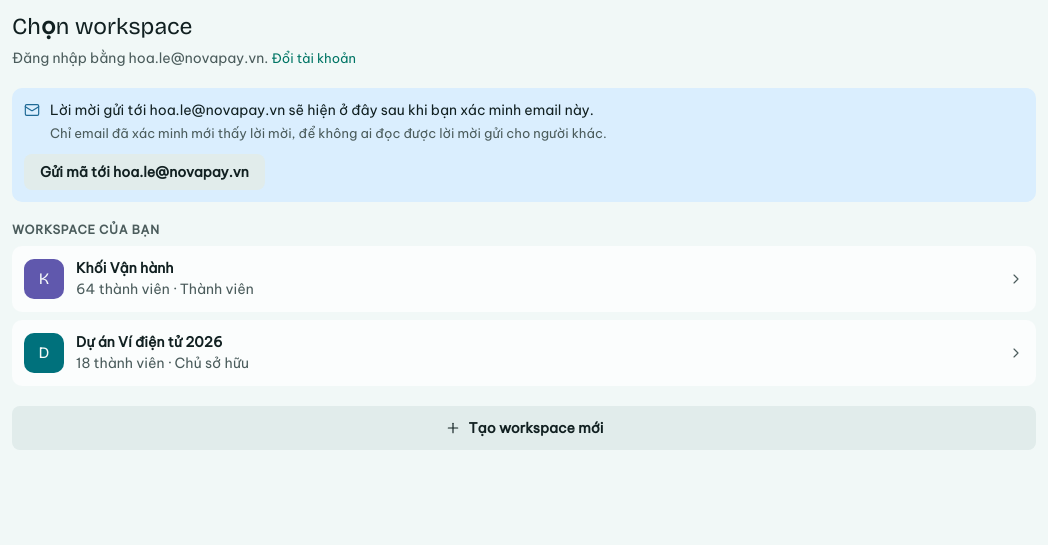
Test: Workspace selection: an address nobody has proved › a wrong code is a wrong code, and the address stays unproved
This screenshot has width=1048, height=545.
Click the button "Gửi mã tới hoa.le@novapay.vn" at (144, 172), box top-left (24, 154), bottom-right (265, 190)
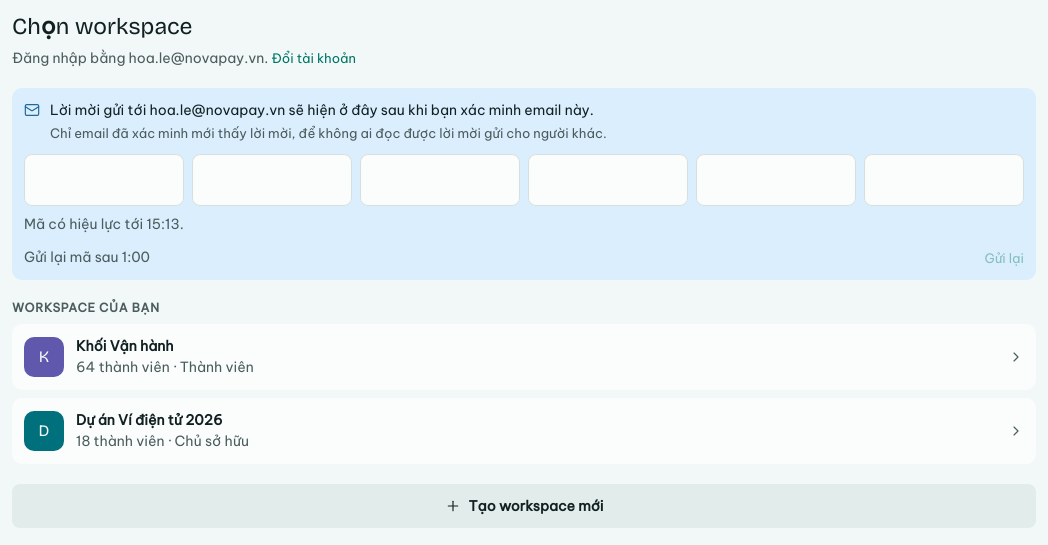
Type "000000" into the field named "Mã xác minh" at (85, 224), box top-left (24, 154), bottom-right (1024, 235)
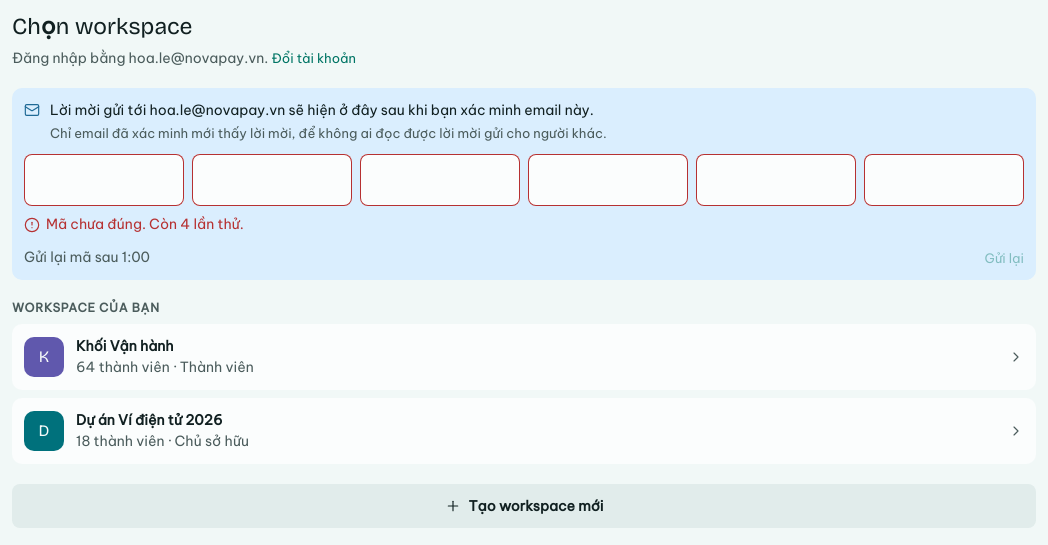
Expected: the text "sẽ hiện ở đây sau khi bạn xác minh" is shown, top-left (50, 101), bottom-right (594, 119)
Now the text "Mã chưa đúng. Còn 4 lần thử." is shown, box top-left (24, 215), bottom-right (244, 233)
